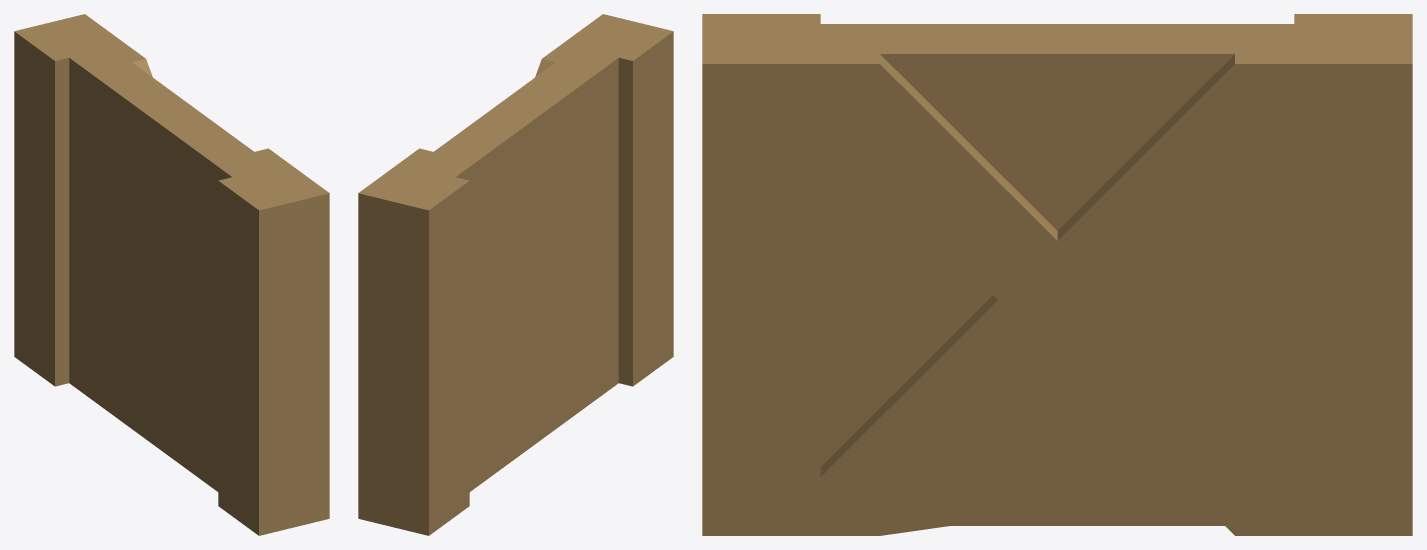
Rendered from wood_wall_double_cross_01.glb.
3 views of the same model, side by side, from view 1: azimuth 30°, elevation 25°; view 2: azimuth 150°, elevation 25°; view 3: azimuth 270°, elevation 25° (orthographic). The views are drawn at different scales.
Parts seen in each view (by area): view 1: Mesh1 Wood_Wall_Double_Cross Model; view 2: Mesh1 Wood_Wall_Double_Cross Model; view 3: Mesh1 Wood_Wall_Double_Cross Model.
Boxes of the visible parts, bbox=[...] form: Mesh1 Wood_Wall_Double_Cross Model: bbox=[14, 14, 329, 535]; Mesh1 Wood_Wall_Double_Cross Model: bbox=[358, 14, 673, 535]; Mesh1 Wood_Wall_Double_Cross Model: bbox=[702, 14, 1412, 535].
Bounding box in the file's own units: 0.5 × 2.2 × 3.
